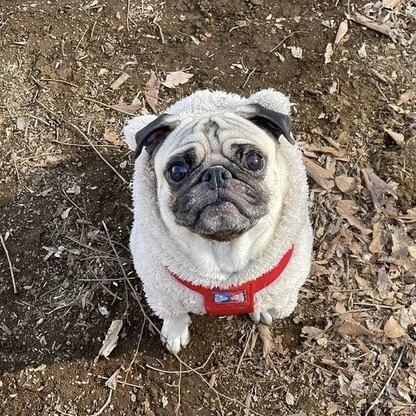Pug: (108, 82, 322, 362)
